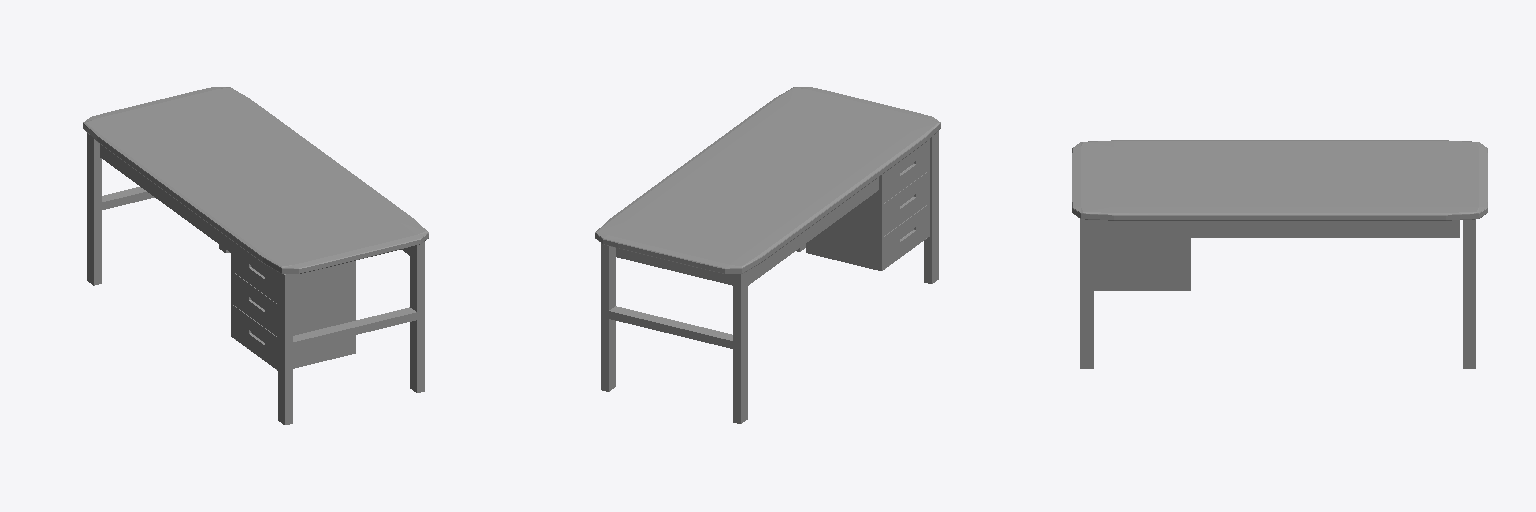
File: workDesk.obj
The picture shows the model from 3 angles: view 1: azimuth 30°, elevation 25°; view 2: azimuth 150°, elevation 25°; view 3: azimuth 270°, elevation 25°; orthographic projection.
Visible parts, largest first — view 1: Desk_Plane_005; view 2: Desk_Plane_005; view 3: Desk_Plane_005.
Boxes of the visible parts, x1=… form: Desk_Plane_005: x1=83, y1=87, x2=428, y2=424; Desk_Plane_005: x1=595, y1=87, x2=940, y2=423; Desk_Plane_005: x1=1072, y1=140, x2=1487, y2=368.
Size of the model in its own units: 0.4038 by 0.3988 by 0.9503.